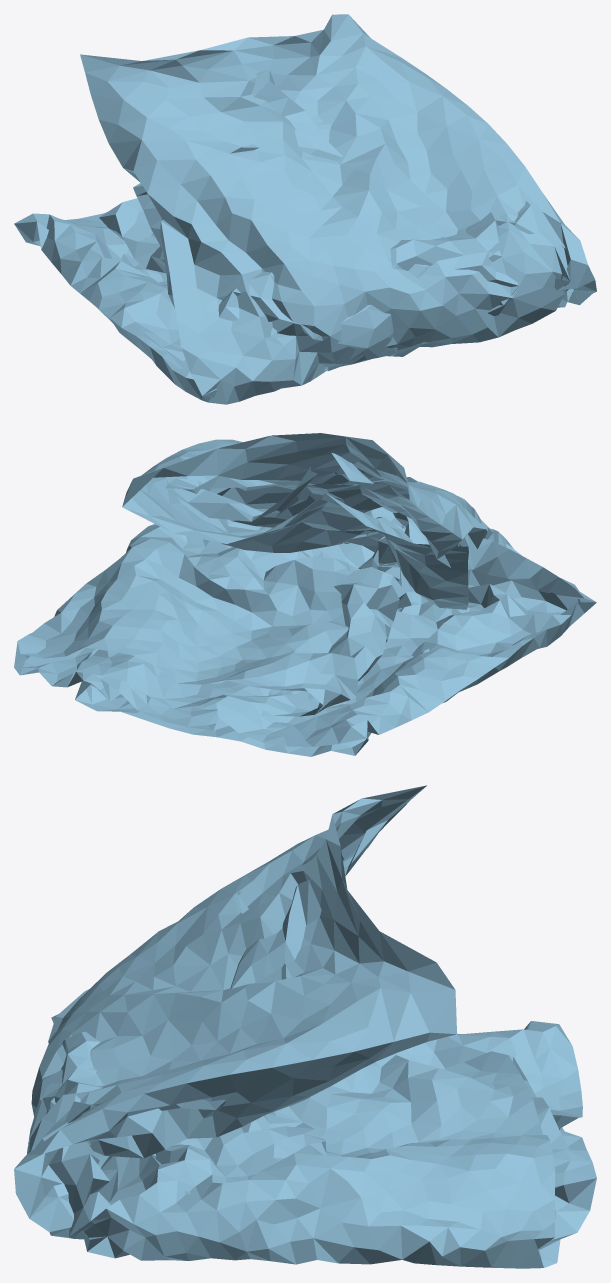
Rendered from frame_16.glb.
3 views of the same model, one above another, from view 1: azimuth 30°, elevation 25°; view 2: azimuth 150°, elevation 25°; view 3: azimuth 270°, elevation 25° (orthographic). The views are drawn at different scales.
Parts seen in each view (by area): view 1: frame_16.obj; view 2: frame_16.obj; view 3: frame_16.obj.
Boxes of the visible parts, x1,y1,x2,y2 form: frame_16.obj: (14, 14, 596, 404); frame_16.obj: (14, 433, 596, 756); frame_16.obj: (14, 785, 596, 1268).
Bounding box in the file's own units: 0.984 × 0.5943 × 1.02.
